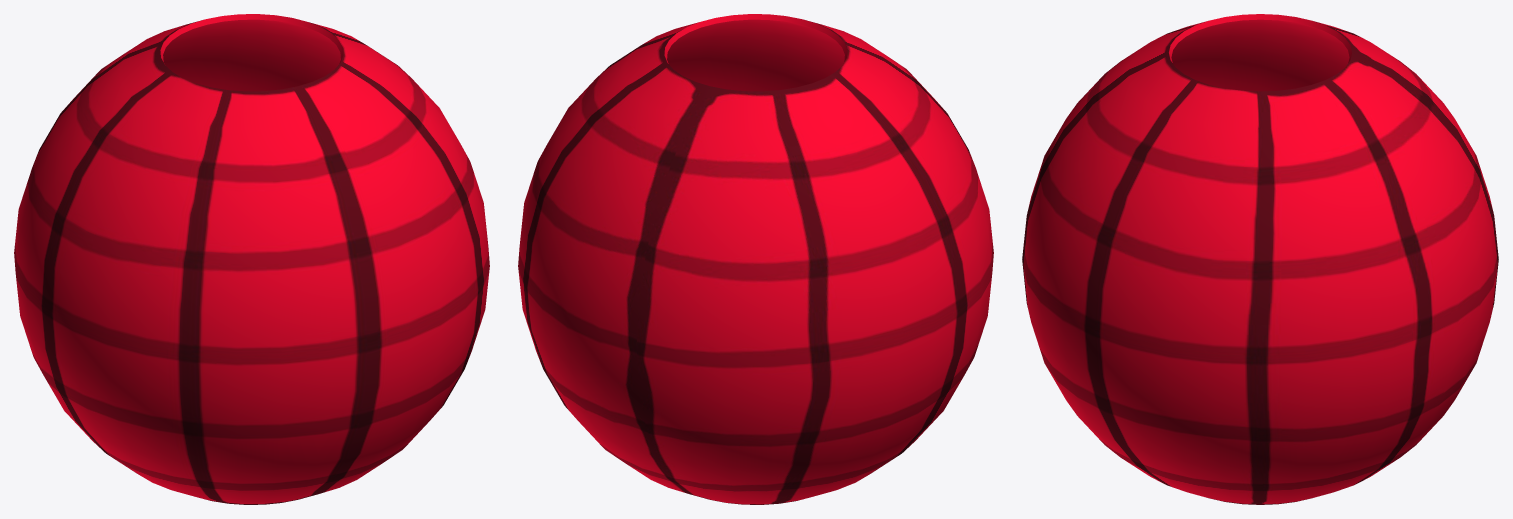
The model's file is lampara.fbx.
The picture shows the model from 3 angles, left to right: view 1: azimuth 30°, elevation 25°; view 2: azimuth 150°, elevation 25°; view 3: azimuth 270°, elevation 25°; orthographic projection.
Visible parts, largest first — view 1: Sphere001; view 2: Sphere001; view 3: Sphere001.
Boxes of the visible parts, x1=… form: Sphere001: x1=14, y1=14, x2=489, y2=504; Sphere001: x1=518, y1=14, x2=993, y2=504; Sphere001: x1=1022, y1=14, x2=1498, y2=504.
Size of the model in its own units: 93.96 by 89.92 by 93.96.
Materials: 1 (1 with a texture image).
